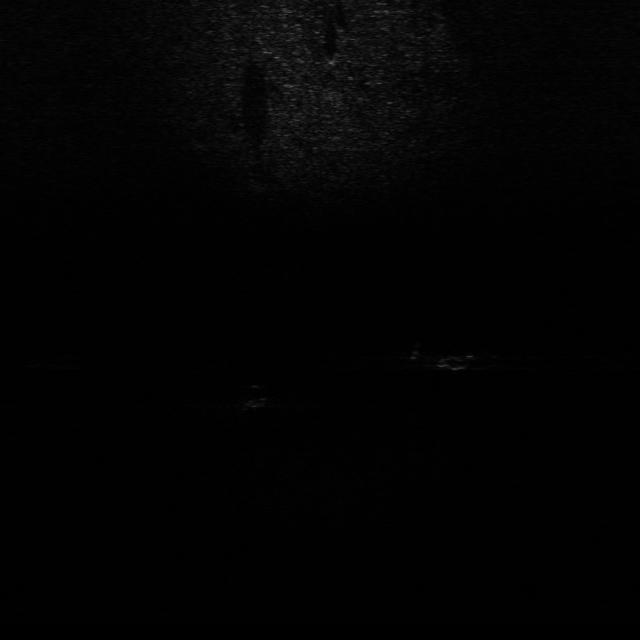ball: (237, 382, 272, 413)
human body: (400, 342, 490, 374)
